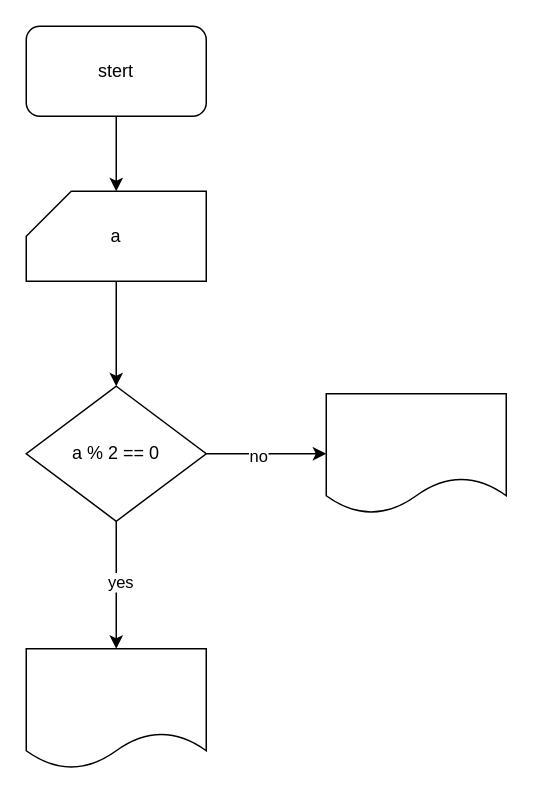
The diagram is 533 pixels wide and 795 high, and some of its shapes have lost their labels. The shapes that lost their labels are listed below. From the top down, each one's box as (x1, y1, x2, y2) in pixels, then its label:
(325, 392, 506, 514): "the number is odd
(25, 647, 206, 769): "the number is even
